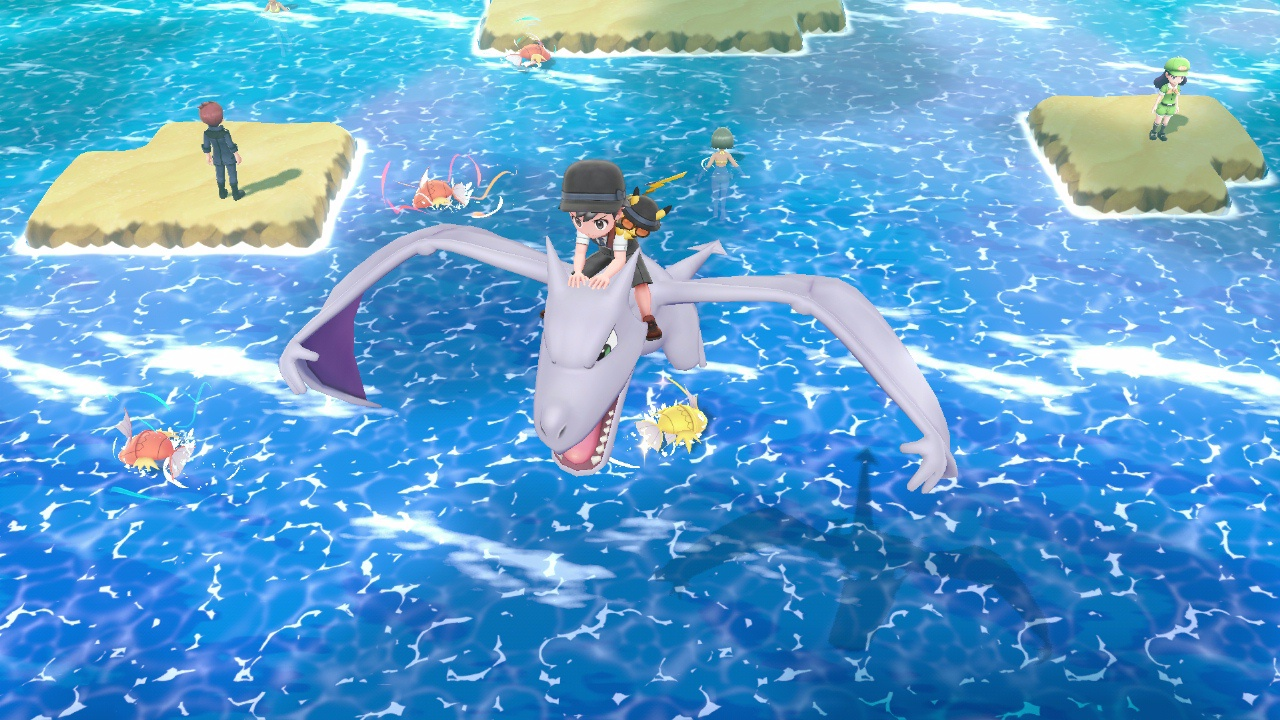Golden: (637, 399, 708, 449)
Red: (115, 414, 195, 477), (407, 174, 472, 212), (508, 43, 555, 68)
